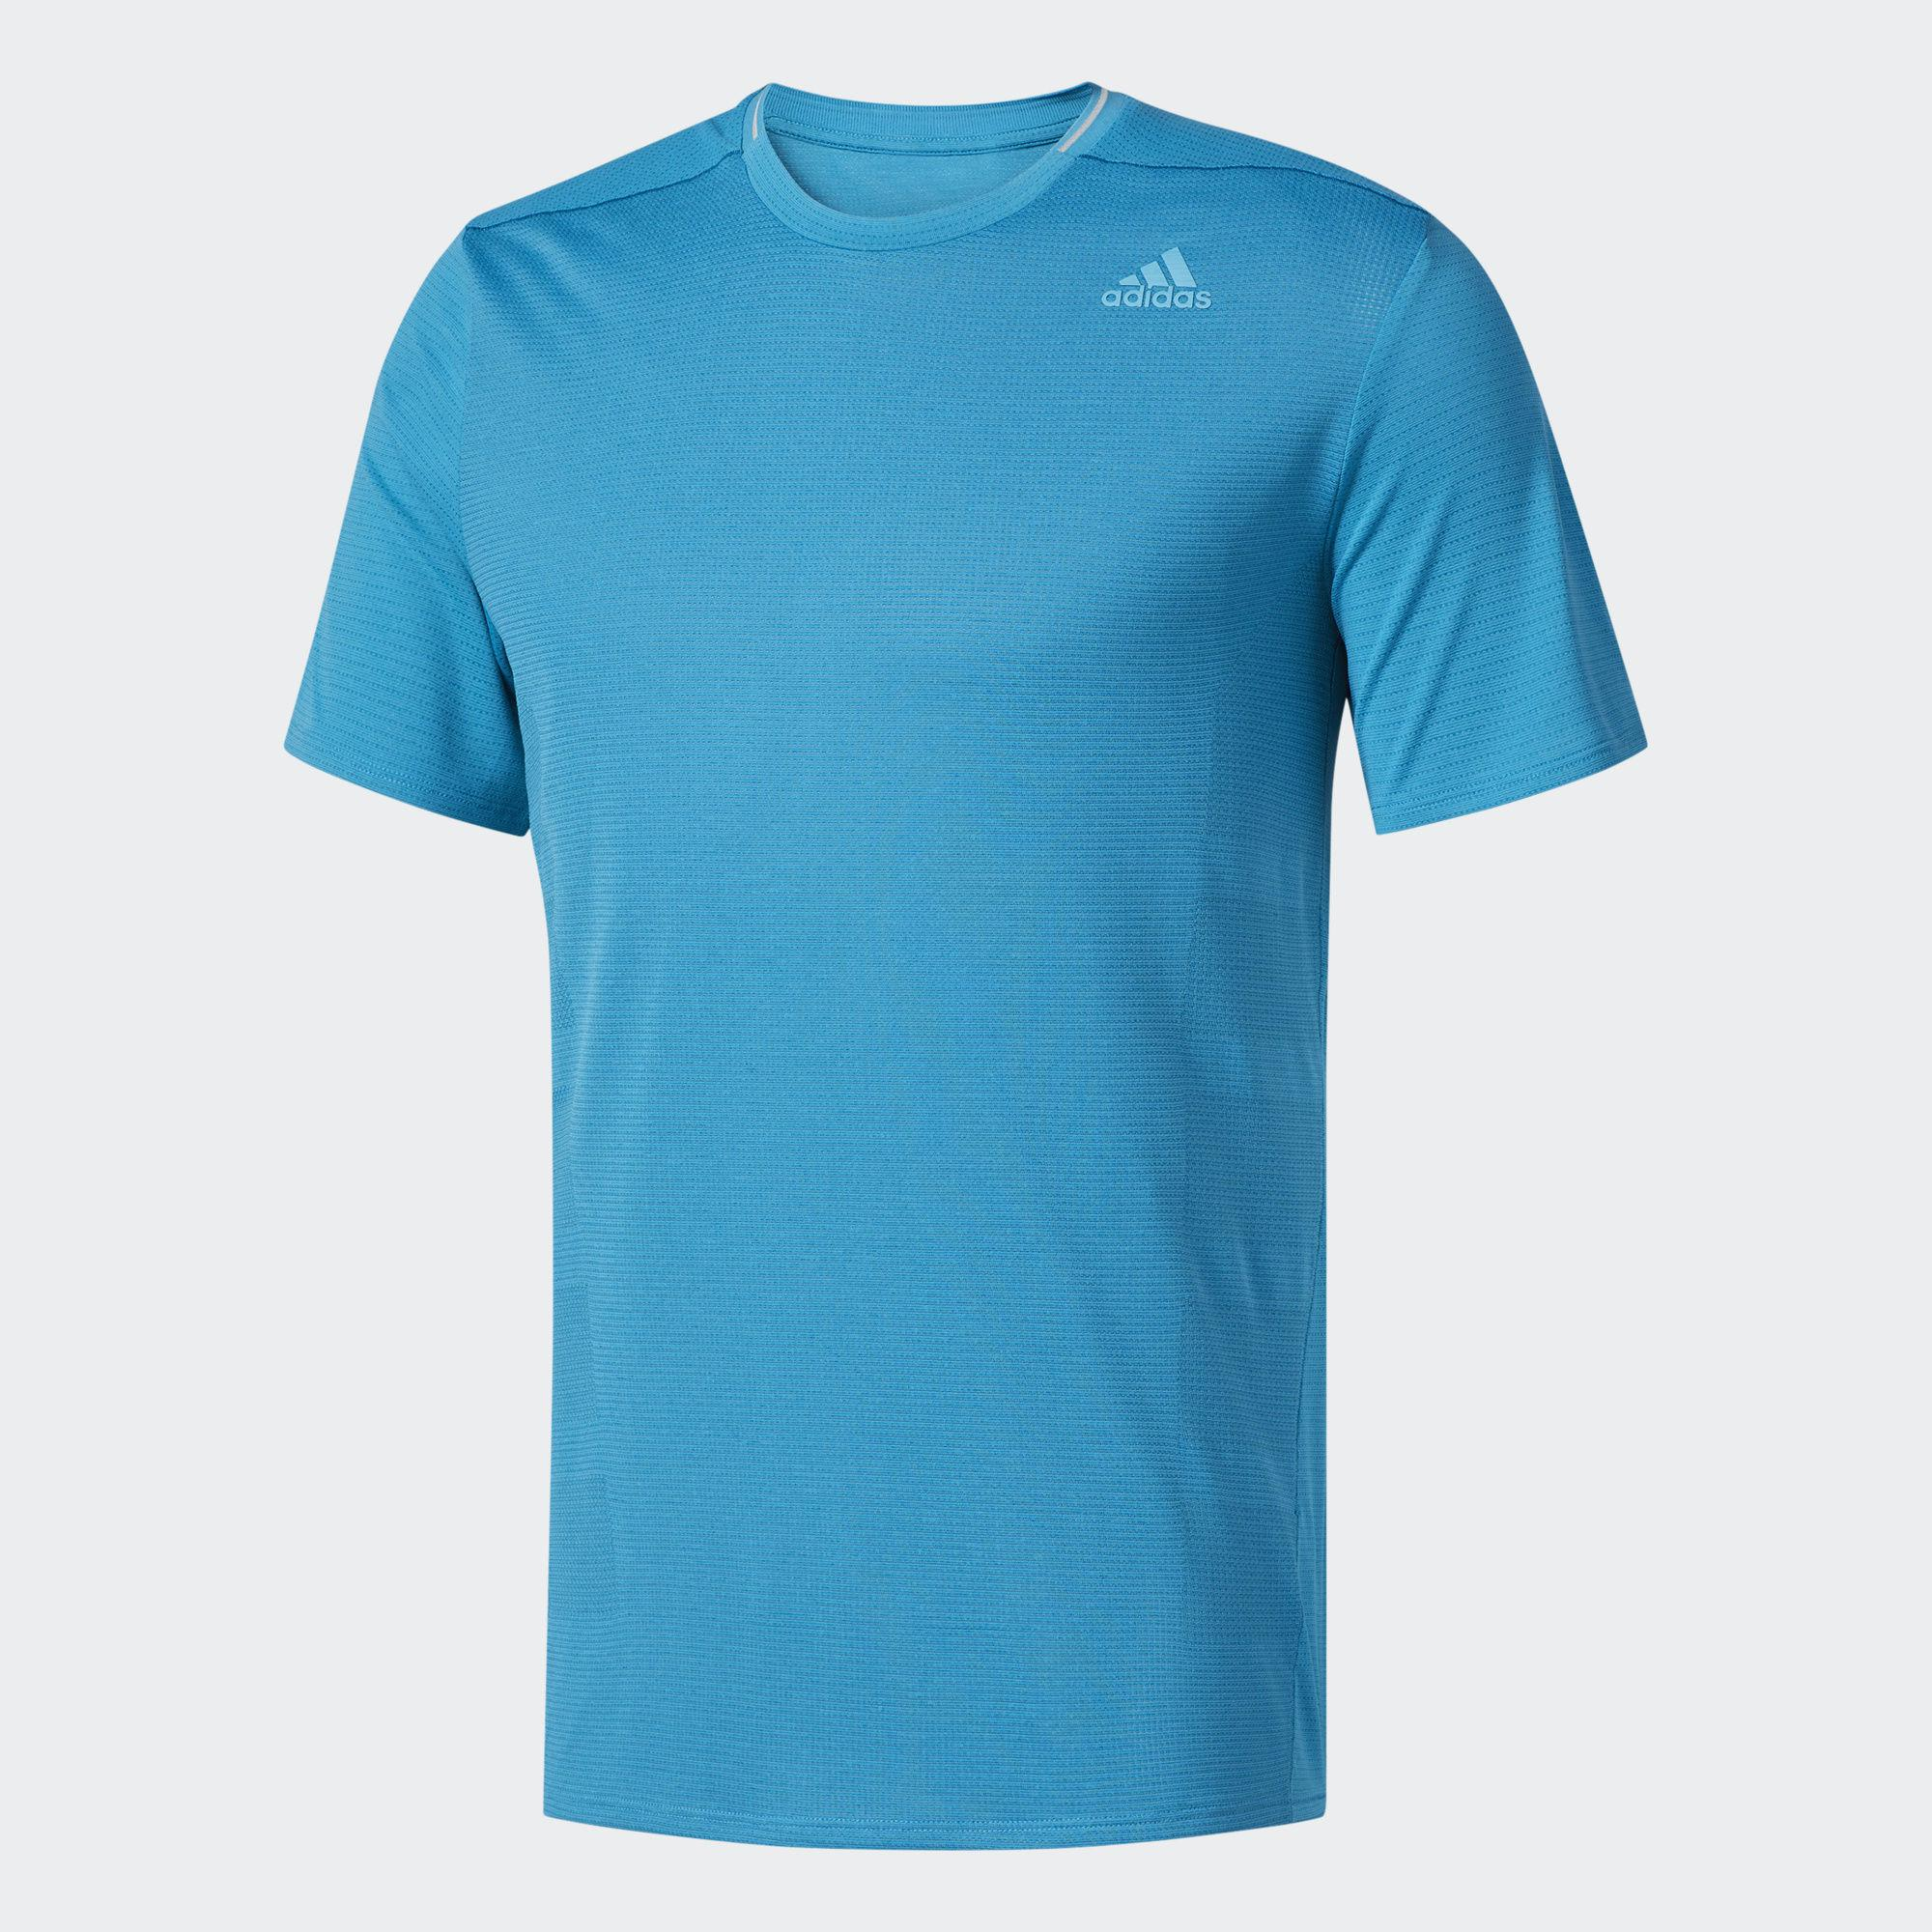teeshirt: (228, 58, 1675, 1932)
